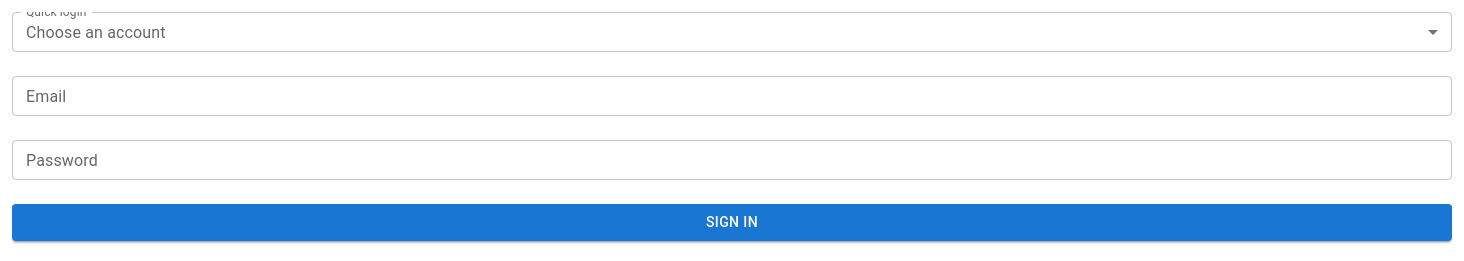
Test case: LoginForm quick login › should fill the fields and submit when an account is picked
Click the dropdown: (96, 32) [26,22,166,42]
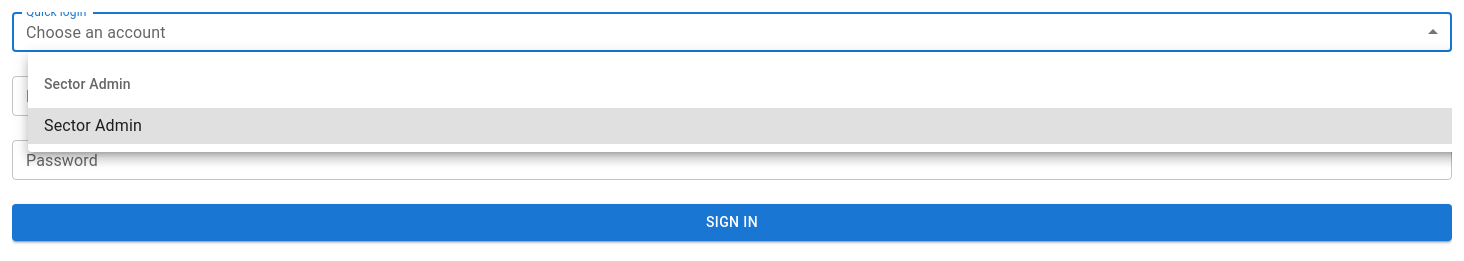
Click the option "Sector Admin": (93, 126) [28,108,1452,144]
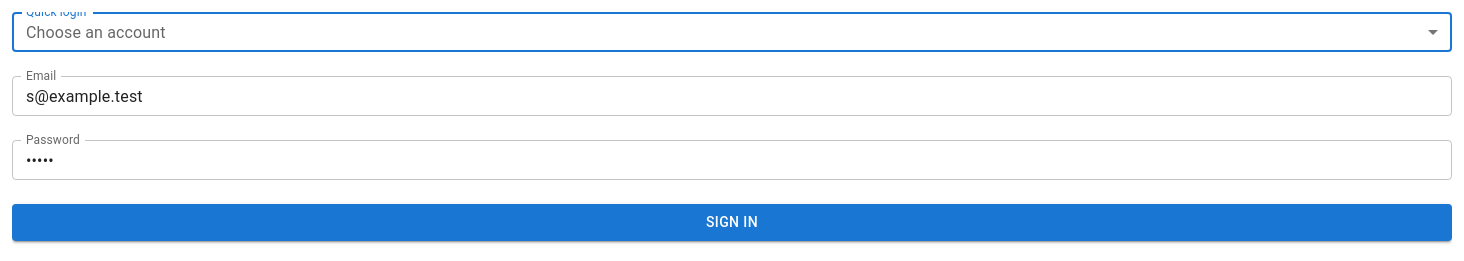
Now the field labelled "Email" holds "s@example.test", box [12,76,1452,116]
